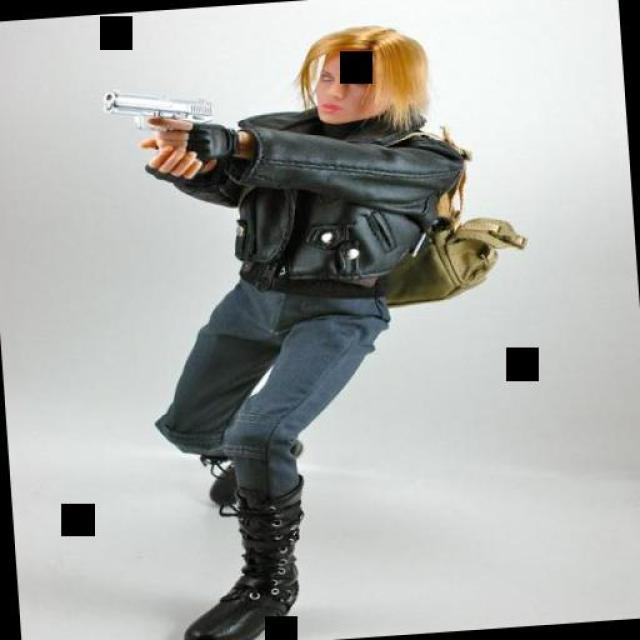gun: (88, 76, 222, 144)
